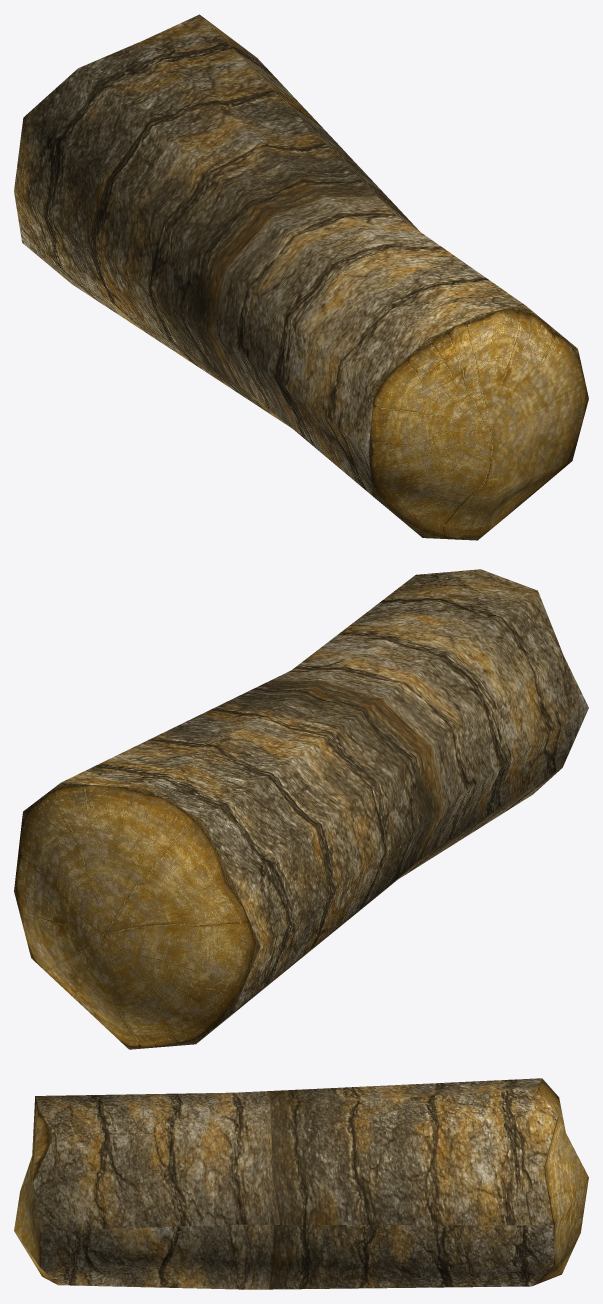
The model's file is 23 (ต้นปาล์มกลายเป็นหิน).fbx.
3 views of the same model, one above another, from view 1: azimuth 30°, elevation 25°; view 2: azimuth 150°, elevation 25°; view 3: azimuth 270°, elevation 25° (orthographic). The views are drawn at different scales.
Parts seen in each view (by area): view 1: trunk; view 2: trunk; view 3: trunk.
Boxes of the visible parts, x1,y1,x2,y2 form: trunk: (14, 14, 588, 540); trunk: (14, 569, 588, 1049); trunk: (14, 1078, 588, 1289).
Bounding box in the file's own units: 35.53 × 35.38 × 98.33.
Materials: 2 (2 with a texture image).
